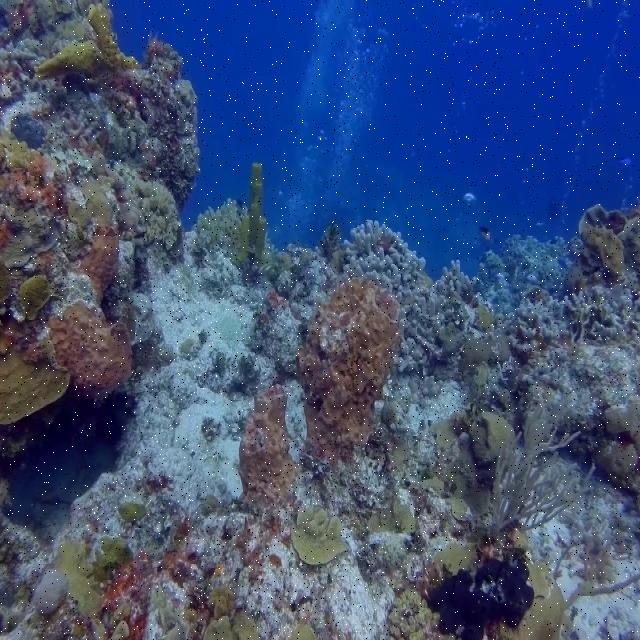aquatic plants: (493, 425, 595, 547), (200, 198, 242, 245)
reefs: (298, 281, 400, 461), (427, 553, 535, 638), (239, 384, 297, 508), (341, 220, 427, 288), (240, 162, 267, 261)
